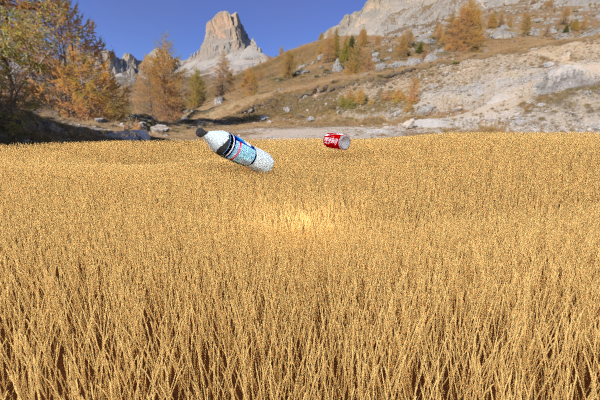bottle: (195, 127, 274, 173)
can: (322, 132, 350, 150)
